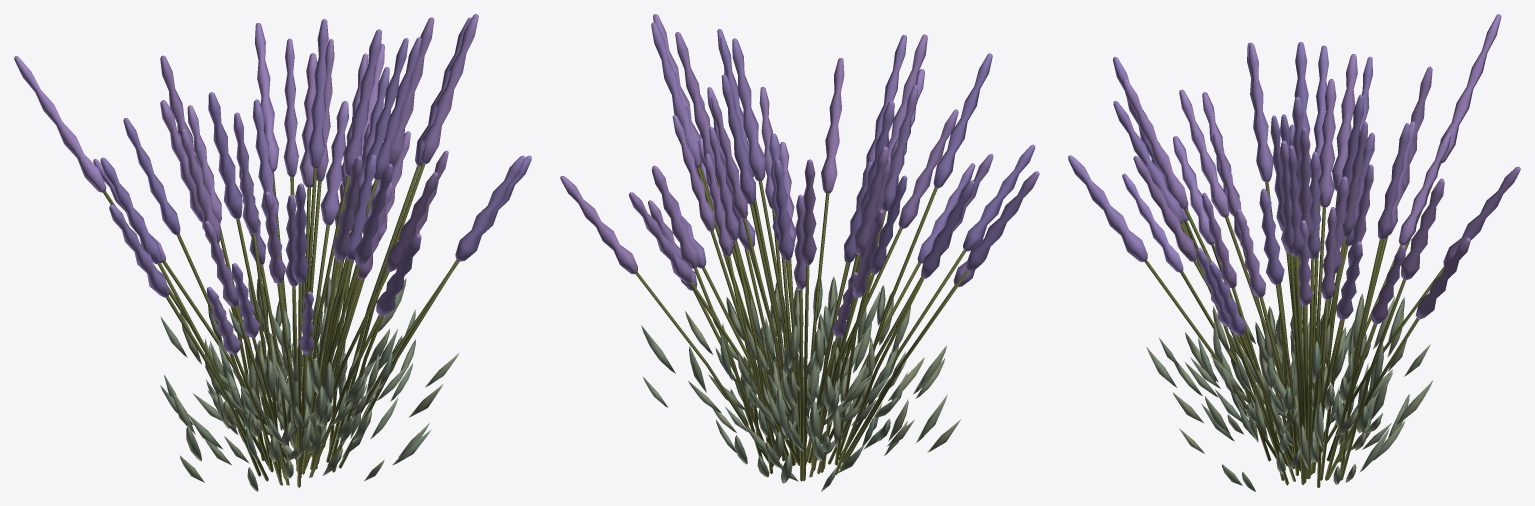
Rendered from potfill_lavender.glb.
3 renders of one model, left to right at view 1: azimuth 30°, elevation 25°; view 2: azimuth 150°, elevation 25°; view 3: azimuth 270°, elevation 25°, orthographic. The views are drawn at different scales.
Parts seen in each view (by area): view 1: Sammel Pflanze, Sammel Putz; view 2: Sammel Pflanze, Sammel Putz; view 3: Sammel Pflanze, Sammel Putz.
Part boxes in pixels (x1,y1,x2,y2): Sammel Pflanze: [14, 14, 531, 491]; Sammel Putz: [103, 163, 459, 487]; Sammel Pflanze: [560, 14, 1039, 491]; Sammel Putz: [635, 165, 968, 481]; Sammel Pflanze: [1068, 14, 1520, 491]; Sammel Putz: [1144, 163, 1444, 487].
Bounding box in the file's own units: 0.5046 × 0.5085 × 0.5105.
